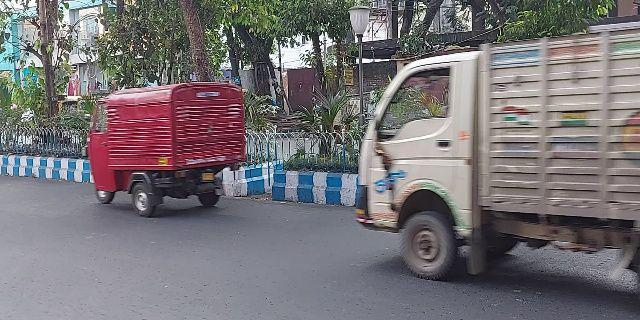Minitruck: (351, 25, 640, 286), (82, 85, 242, 218)
